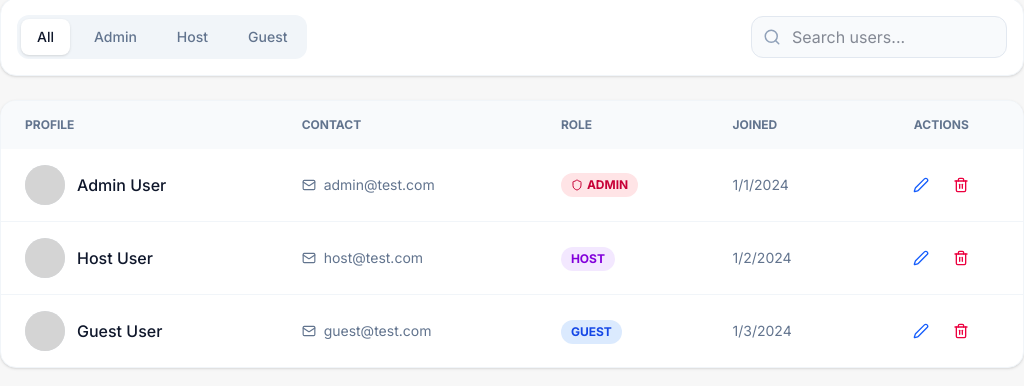
Test: UsersPage › filters users by search query
Expected: the text "Admin User" is shown, x1=77 y1=173 x2=166 y2=197
Type "guest" into the field with placeholder "Search users...".
click(879, 37); type("guest")  # box x1=751 y1=16 x2=1007 y2=58
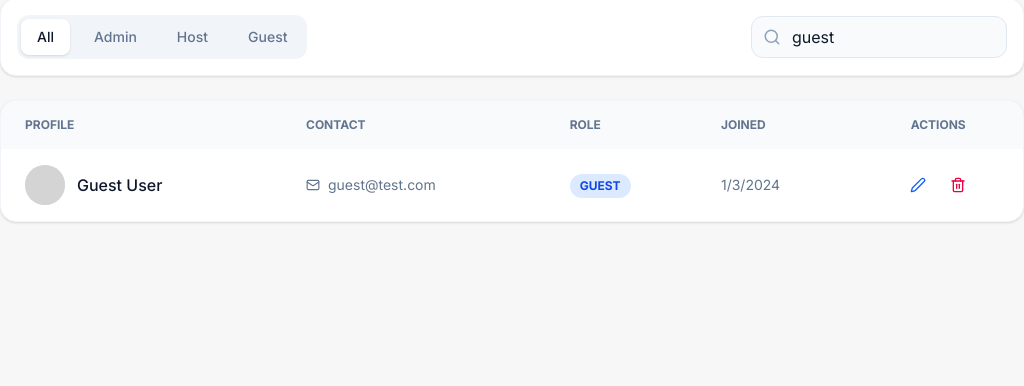
Expected: the text "Guest User" is shown, x1=77 y1=173 x2=162 y2=197
Expected: the text "Admin User" is gone
